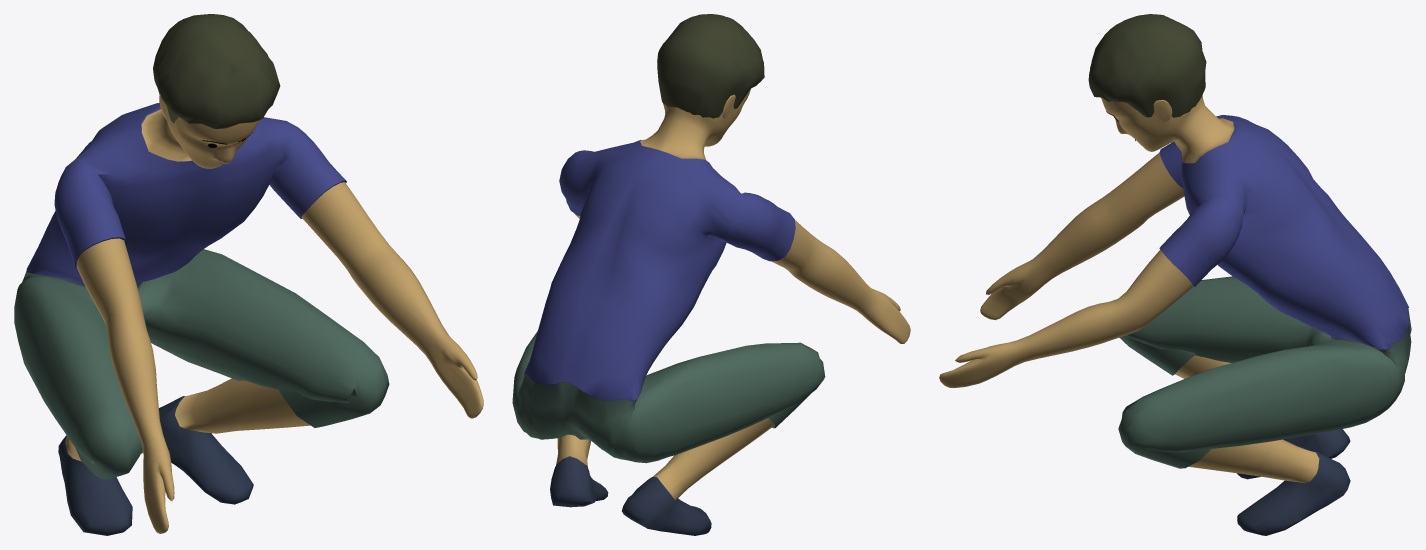
The model's file is Man-Crouching.glb.
3 renders of one model, left to right at view 1: azimuth 30°, elevation 25°; view 2: azimuth 150°, elevation 25°; view 3: azimuth 270°, elevation 25°, orthographic. The views are drawn at different scales.
Visible parts, largest first — view 1: Male_Crouching; view 2: Male_Crouching; view 3: Male_Crouching.
Boxes of the visible parts, box(x1,y1,x2,y2) form: Male_Crouching: box(14, 14, 483, 535); Male_Crouching: box(512, 14, 910, 535); Male_Crouching: box(939, 14, 1411, 535).
Bounding box in the file's own units: 0.5734 × 0.9437 × 0.848.
